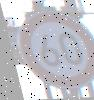Speed Limit -60-: (8, 9, 94, 91)
